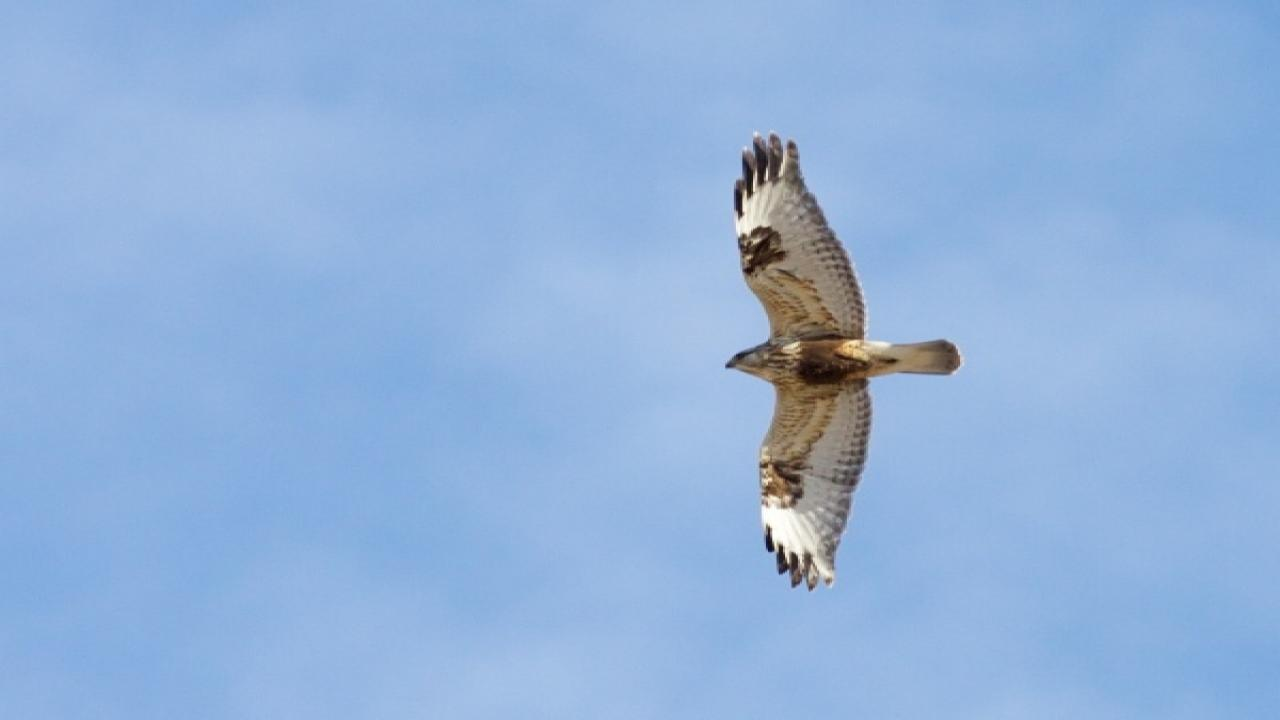Bird: (711, 125, 970, 596)
